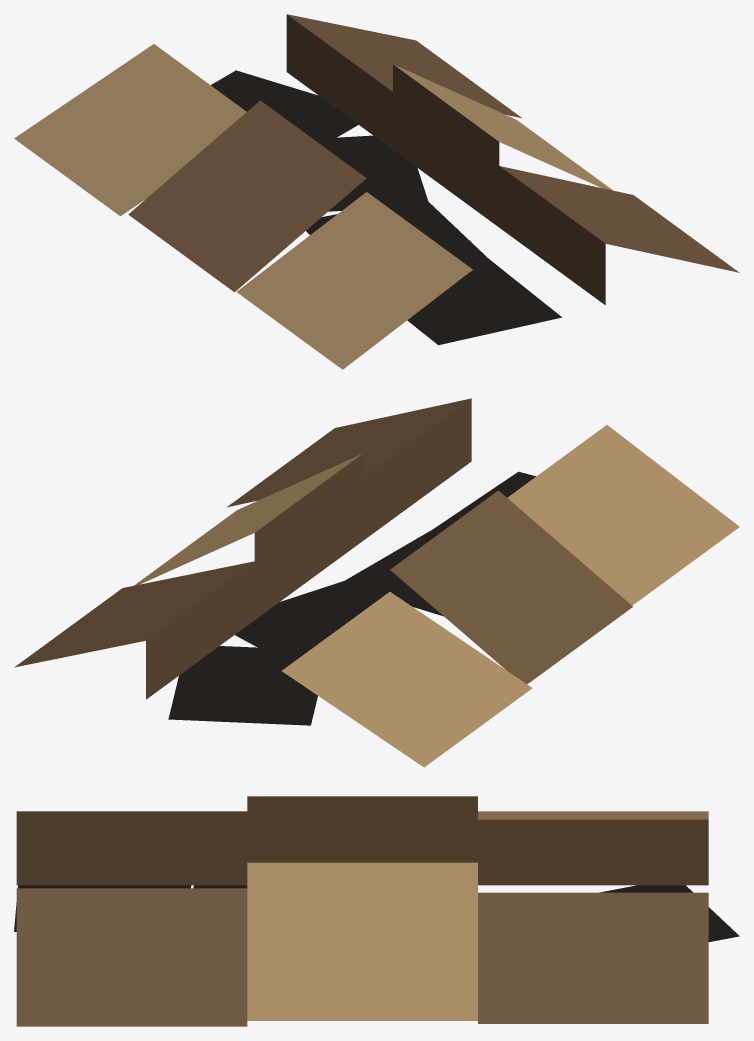
Rendered from earth_rift.glb.
3 views of the same model, one above another, from view 1: azimuth 30°, elevation 25°; view 2: azimuth 150°, elevation 25°; view 3: azimuth 270°, elevation 25° (orthographic). The views are drawn at different scales.
Visible parts, largest first — view 1: earth_rift; view 2: earth_rift; view 3: earth_rift.
Boxes of the visible parts, x1,y1,x2,y2 form: earth_rift: (14,14,739,369); earth_rift: (14,398,739,767); earth_rift: (14,796,739,1026).
Bounding box in the file's own units: 0.7358 × 0.1482 × 1.05.
1 material, 1 textured.
